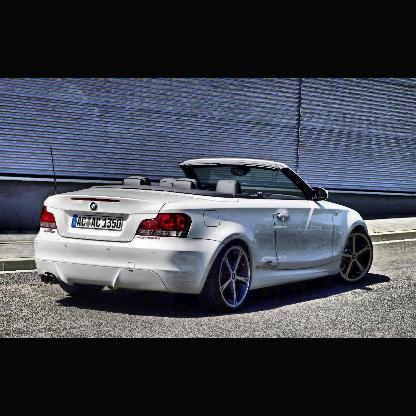BMW 1 Series Convertible 2012: (35, 158, 375, 317)
